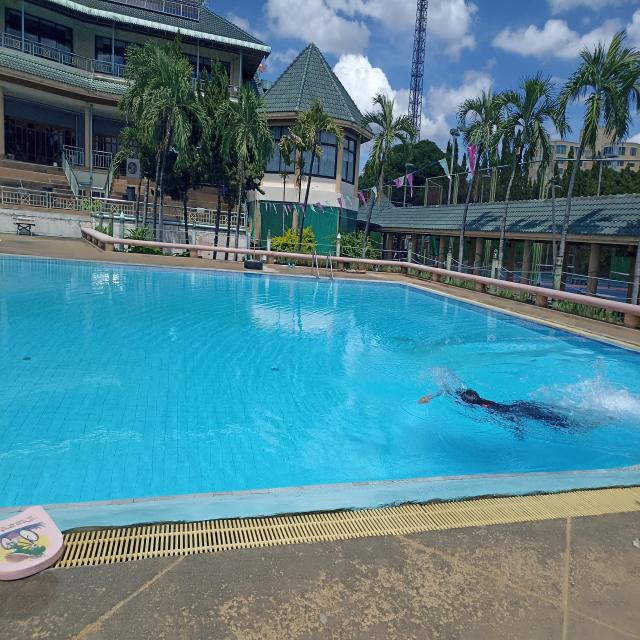Swimming: (406, 366, 616, 446)
